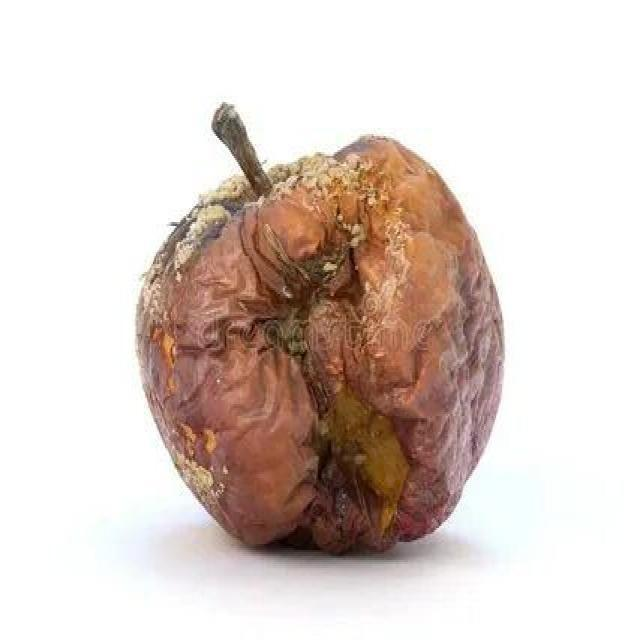Rotten: (132, 135, 496, 558)
